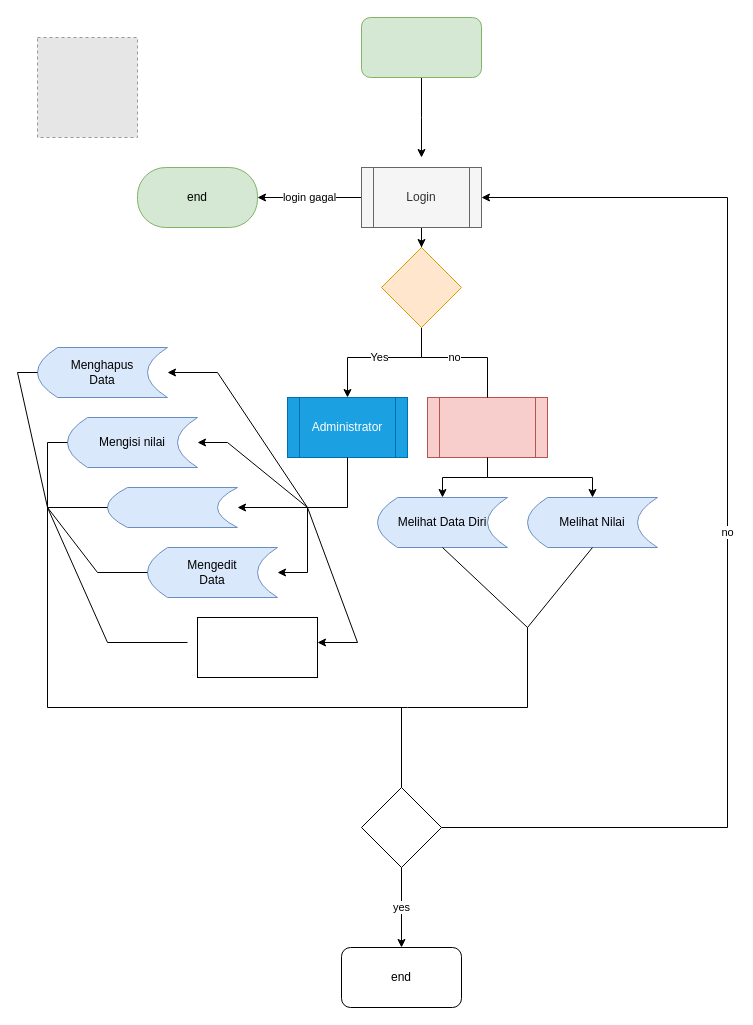
The diagram is 753 pixels wide and 1025 high, and some of its shapes have lost their labels. Grey dashed boxes stand in for pictures. The centre of each missing label's shape, as x and y in pixels:
Admin?: [421,287]
Mahasiswa: [487,427]
Mulai: [421,47]
Registrasi Mahasiswa: [172,507]
Selesai?: [401,827]
